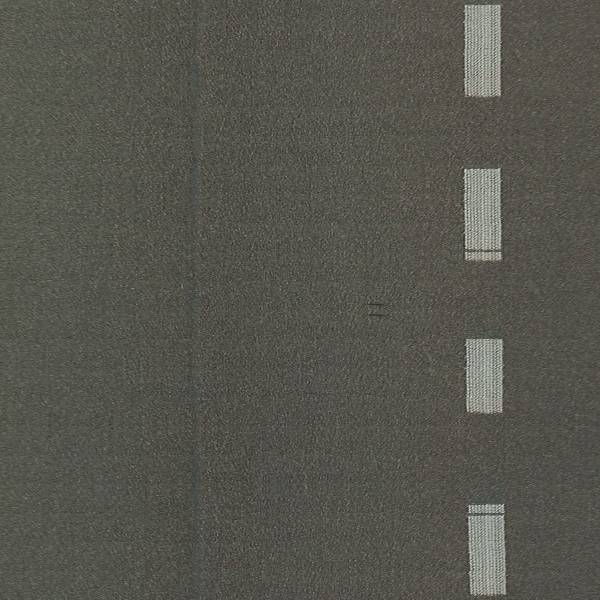road_damage: (361, 300, 389, 319)
